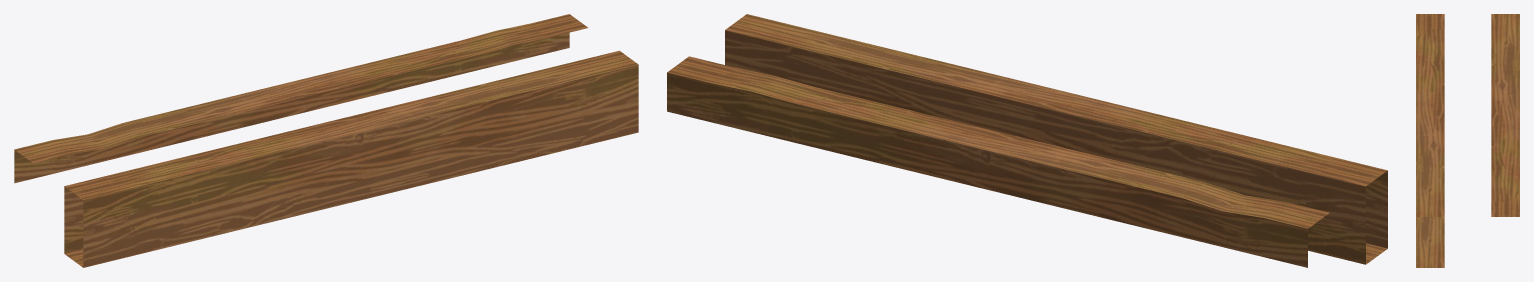
Rendered from Wall_BottomCover.glb.
3 renders of one model, left to right at view 1: azimuth 30°, elevation 25°; view 2: azimuth 150°, elevation 25°; view 3: azimuth 270°, elevation 25°, orthographic. The views are drawn at different scales.
Parts seen in each view (by area): view 1: Wall_BottomCover; view 2: Wall_BottomCover; view 3: Wall_BottomCover.
Boxes of the visible parts, x1=… form: Wall_BottomCover: x1=14, y1=14, x2=638, y2=267; Wall_BottomCover: x1=667, y1=14, x2=1387, y2=267; Wall_BottomCover: x1=1416, y1=14, x2=1519, y2=267.
Size of the model in its own units: 2 by 0.2376 by 0.4317.
Materials: 1 (1 with a texture image).
